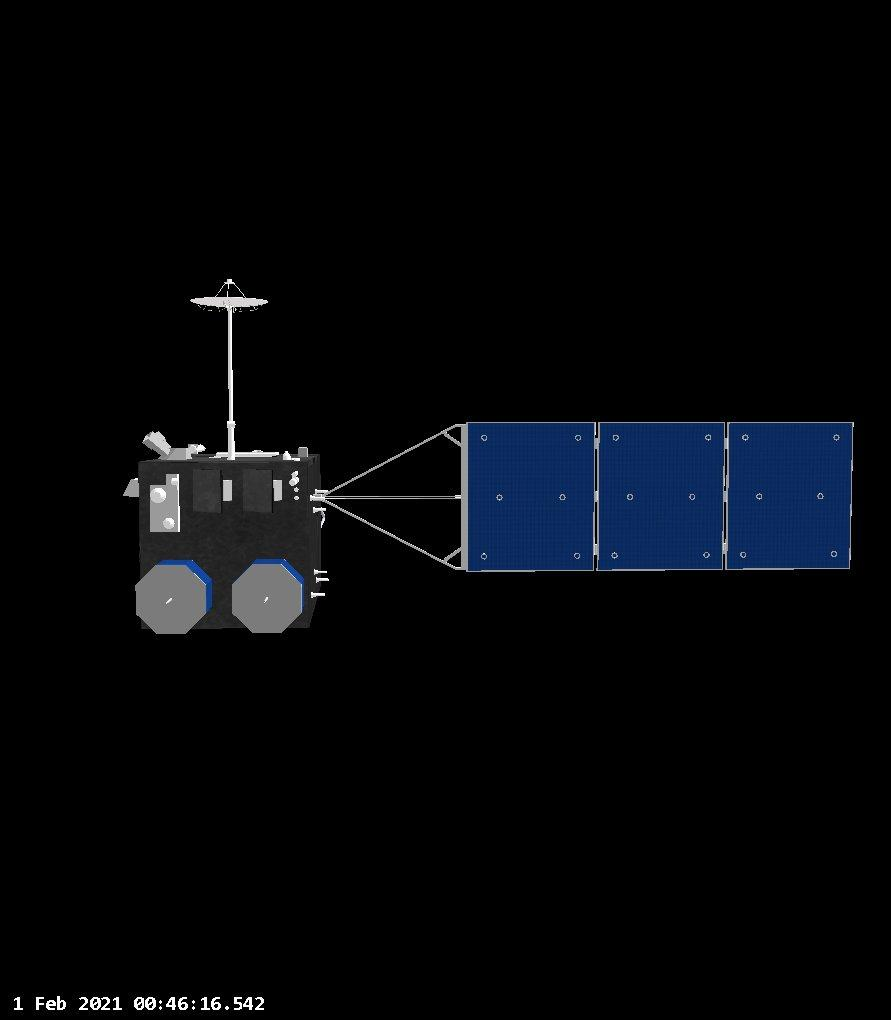antenna: (129, 557, 213, 638), (229, 557, 301, 639), (189, 274, 270, 318)
body: (133, 444, 326, 639)
solar: (416, 407, 860, 577)
thruster: (144, 427, 176, 460)
